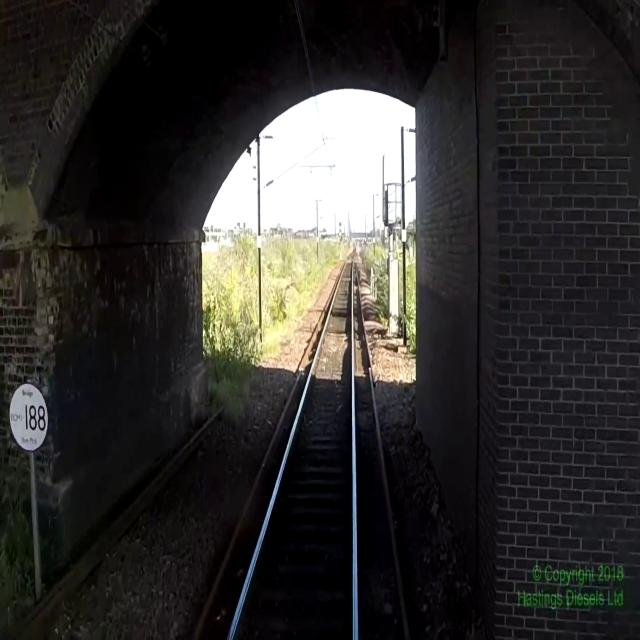rail-track: (231, 260, 352, 639)
